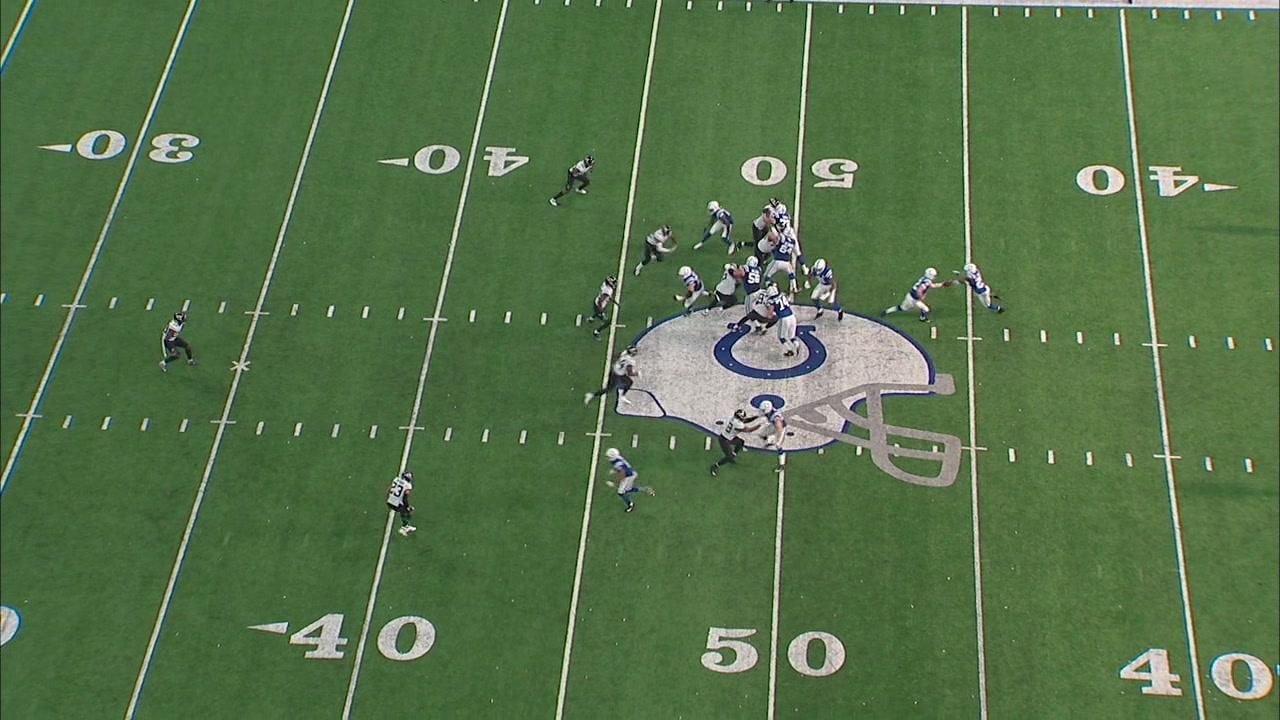defense: (585, 345, 643, 410), (707, 404, 757, 477), (157, 302, 200, 373), (547, 152, 600, 207), (586, 265, 623, 341), (389, 465, 425, 539), (707, 257, 741, 318), (737, 282, 772, 335), (637, 226, 675, 272), (754, 224, 784, 264), (754, 196, 784, 232)
oline: (807, 253, 846, 325), (768, 284, 803, 356), (775, 206, 809, 275), (675, 264, 713, 320), (763, 405, 789, 474), (770, 233, 797, 280), (742, 256, 762, 314)
qb: (879, 266, 943, 322)
skill: (599, 442, 654, 513), (955, 259, 1009, 318), (692, 192, 737, 254)
